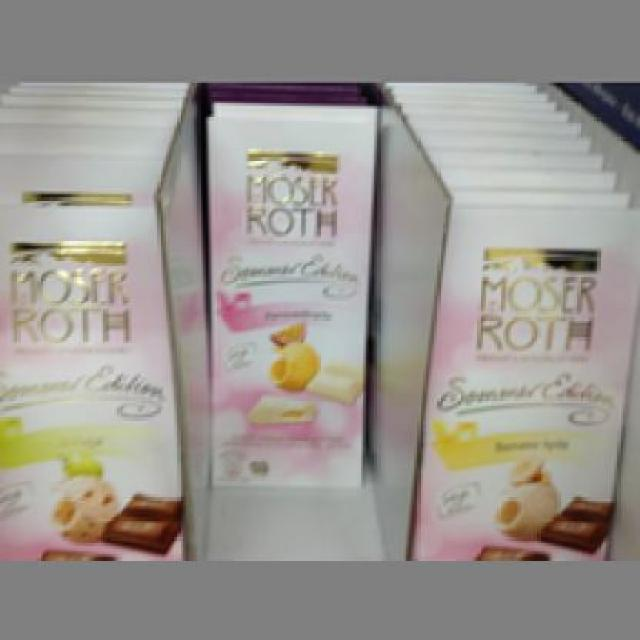Chocolate bar: (409, 197, 637, 563), (2, 200, 186, 557), (203, 114, 377, 486)
